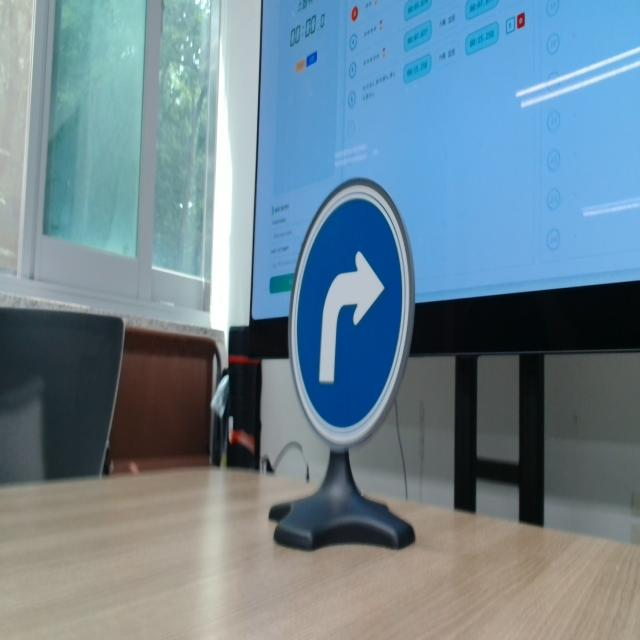right_dierection: (281, 170, 445, 465)
